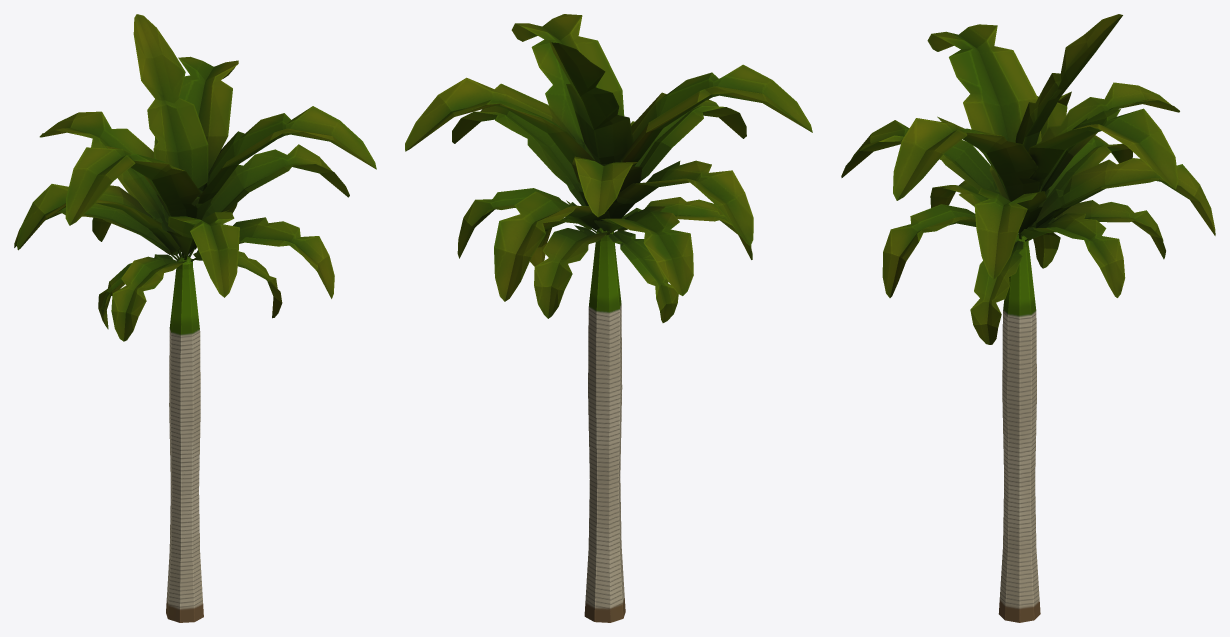
Rendered from 22b34f75-411f-4fc3-95da-342a0f10ead2.glb.
3 renders of one model, left to right at view 1: azimuth 30°, elevation 25°; view 2: azimuth 150°, elevation 25°; view 3: azimuth 270°, elevation 25°, orthographic. The views are drawn at different scales.
Visible parts, largest first — view 1: RoyalPalmTree_mesh; view 2: RoyalPalmTree_mesh; view 3: RoyalPalmTree_mesh.
Part boxes in pixels (x1=…): RoyalPalmTree_mesh: x1=14, y1=14, x2=376, y2=622; RoyalPalmTree_mesh: x1=405, y1=14, x2=812, y2=622; RoyalPalmTree_mesh: x1=841, y1=14, x2=1215, y2=622.
Size of the model in its own units: 19.08 by 33.68 by 19.08.
Materials: 1 (1 with a texture image).
